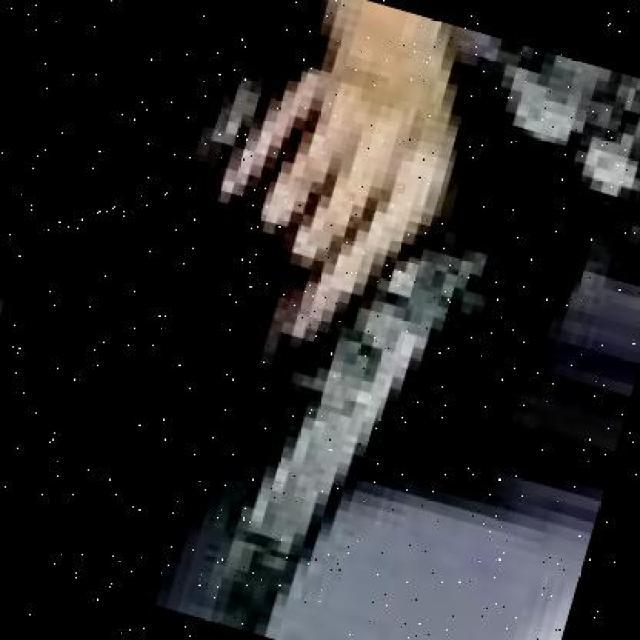rifle: (106, 202, 506, 640)
